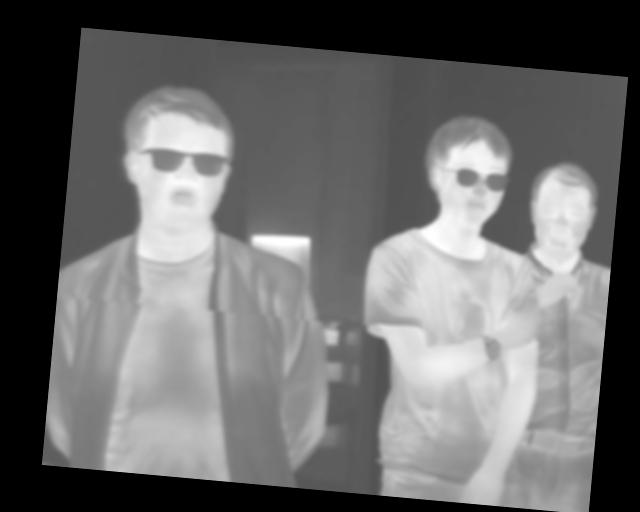face: (115, 79, 240, 235), (419, 109, 517, 231), (523, 157, 602, 266)
